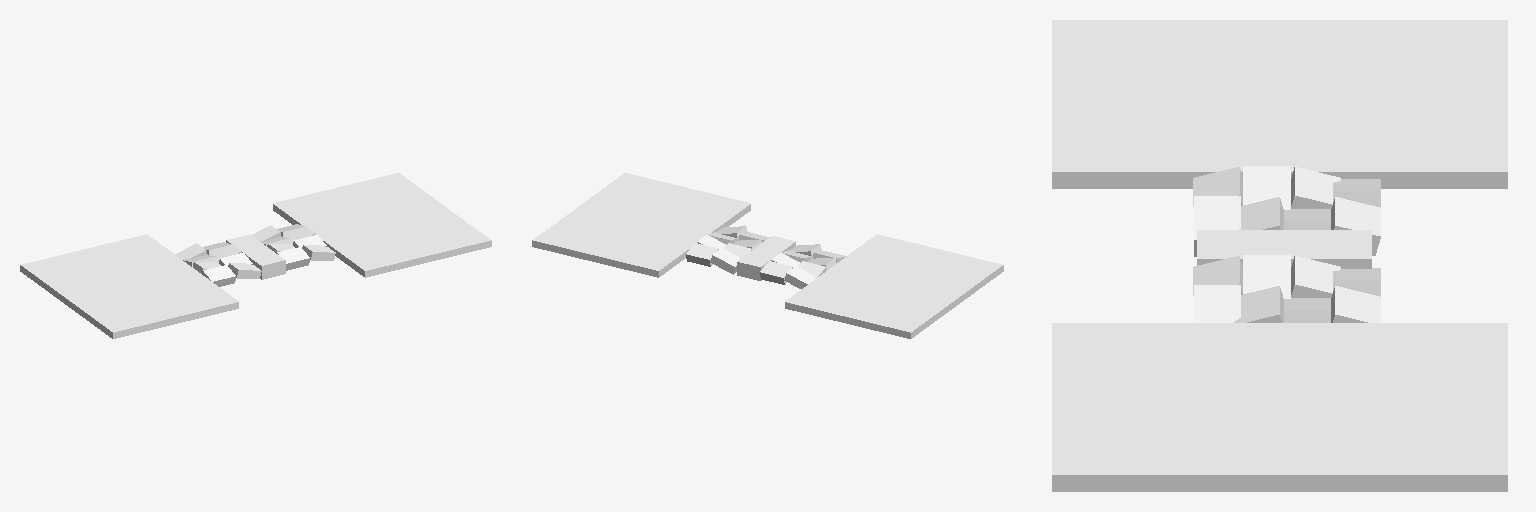
robot.urdf — debris:
<robot name="debris">
  <link name="base_link">
    <visual>
      <origin xyz="0 0 0" rpy="0 0 0" />
      <geometry>
        <mesh filename="package://hpp_environments/meshes/multicontact/daeun/debris.stl"/>
      </geometry>
      <material name="white">
        <color rgba="1 1 1 1"/>
      </material>
    </visual>
    <collision>
      <origin xyz="0 0 0" rpy="0 0 0" />
      <geometry>
        <mesh filename="package://hpp_environments/meshes/multicontact/daeun/debris.stl"/>
      </geometry>
    </collision>
  </link>
</robot>

--- Render facts (derived) ---
3 views of the same robot in one strip: view 1: azimuth 30°, elevation 25°; view 2: azimuth 150°, elevation 25°; view 3: azimuth 270°, elevation 25° (orthographic).
Model debris with 1 links and 0 joints (none), rooted at base_link, posed every joint at zero.
Visible links, largest first — view 1: base_link; view 2: base_link; view 3: base_link.
Link boxes in pixels (x1=…): base_link: x1=20, y1=173, x2=491, y2=338; base_link: x1=532, y1=173, x2=1003, y2=338; base_link: x1=1052, y1=20, x2=1507, y2=491.
Bounding box of the posed robot: 4.73 × 2 × 0.1951 m (x, y, z).
1 mesh visuals loaded from 1 distinct referenced files (1 binary STL).
